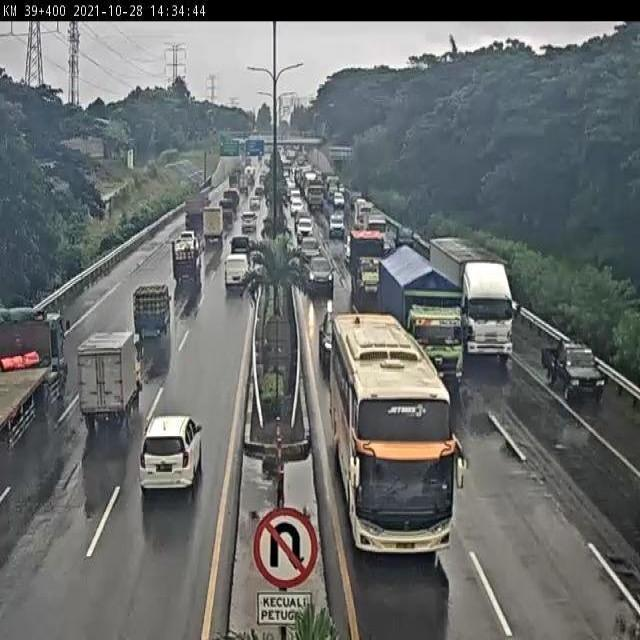big bus: (329, 304, 478, 567)
big truck: (0, 306, 73, 462), (441, 236, 527, 357), (393, 254, 469, 362)
car: (132, 404, 222, 512), (535, 323, 606, 413), (128, 276, 180, 360), (219, 248, 257, 299), (308, 245, 339, 299), (318, 303, 340, 364)
small truck: (70, 329, 148, 443), (346, 230, 390, 306), (169, 231, 205, 297)
